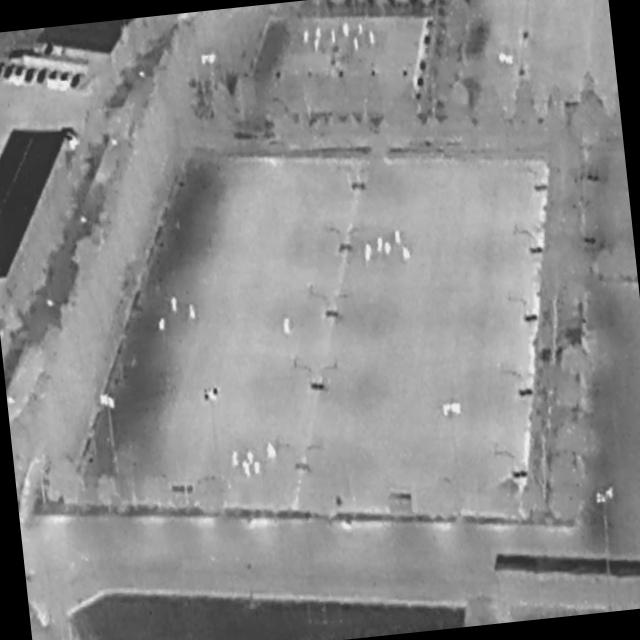person: (363, 243, 374, 263), (267, 442, 278, 462), (231, 450, 241, 470), (283, 317, 294, 335), (242, 461, 252, 479), (402, 246, 412, 263), (384, 241, 393, 258), (394, 229, 403, 246), (342, 23, 351, 39), (171, 297, 180, 313), (189, 304, 198, 320), (253, 461, 262, 477), (377, 237, 385, 254), (247, 450, 256, 465), (369, 30, 377, 46), (303, 29, 311, 44), (158, 317, 166, 332), (353, 36, 360, 52), (331, 30, 338, 45), (314, 38, 321, 53), (316, 27, 323, 40), (357, 23, 364, 36)
